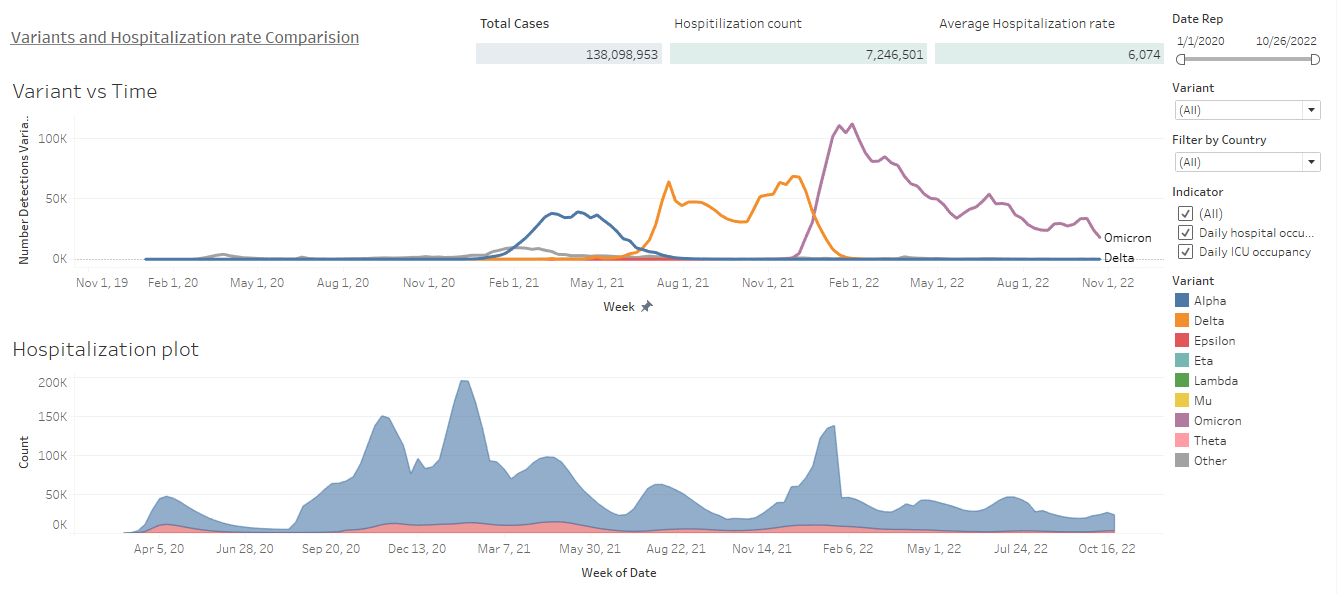

The dashboard page shown, as its layout file describes it:
{"tool":"tableau","page":{"name":"Hospitilization over time","canvas":[1000,1000],"units":"permille","ordinal":3},"visuals":[{"type":"text","box":[6,13.3,435.1,114.6]},{"type":"worksheet","title":"Avg Hospitalization","mark":"Automatic","box":[441,13.3,217.5,114.6]},{"type":"worksheet","title":"Total hospitalization","mark":"Automatic","box":[658.6,13.3,217.6,114.6]},{"type":"filter","title":"Hospitalization plot","param":"[federated.0xkkdh10fpz2wn14k5fxt0op2lj3].[none:dateRep:qk]","box":[876.1,13.3,117.9,114.6]},{"type":"worksheet","title":"Hospitalization plot","mark":"Area","rows":["value (covid_hospitalization_clean.csv)"],"cols":["date (covid_hospitalization_clean.csv)"],"box":[6,127.9,870.1,858.8]},{"type":"filter","title":"Hospitalization plot","param":"[federated.0xkkdh10fpz2wn14k5fxt0op2lj3].[none:country (covid_hospitalization_cl","box":[876.1,127.9,117.9,86.4]},{"type":"filter","title":"Avg Hospitalization","param":"[federated.0xkkdh10fpz2wn14k5fxt0op2lj3].[none:indicator (covid_hospitalization_","box":[876.1,214.3,117.9,147.8]}]}

Visuals, with their boxes on the dashboard's canvas, which has no fixed pixel size, in thousandths of its width and height (x1, y1, x2, y2). These are canvas units, not pixel positions in the 1337x594 screenshot, which may show the page scaled, cropped or inside an application window:
text: [6,13,441,128]
"Avg Hospitalization" worksheet: [441,13,658,128]
"Total hospitalization" worksheet: [659,13,876,128]
"Hospitalization plot" filter: [876,13,994,128]
"Hospitalization plot" worksheet (Area marks): [6,128,876,987]
"Hospitalization plot" filter: [876,128,994,214]
"Avg Hospitalization" filter: [876,214,994,362]
